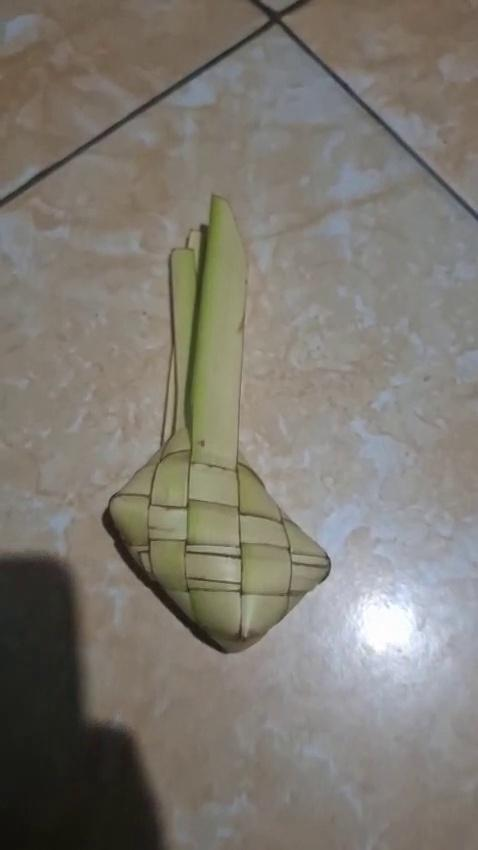Tipat Bantal: (95, 190, 336, 668)
